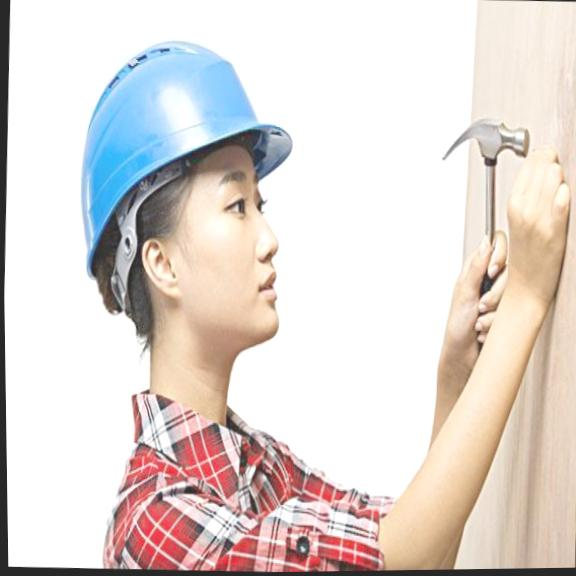no_safety_vest: (107, 397, 328, 575)
